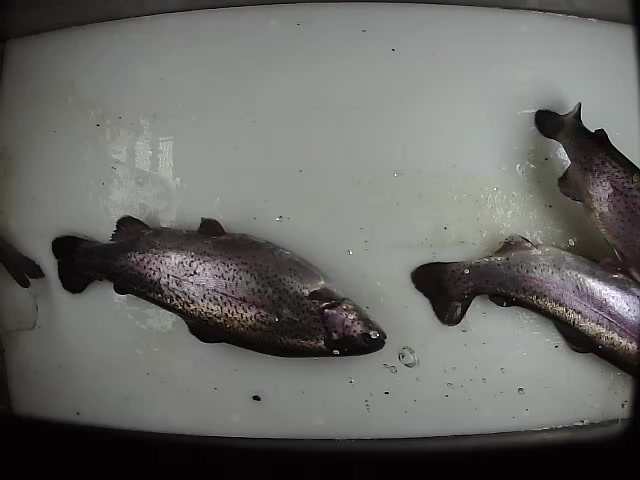fish: (48, 212, 389, 361), (409, 234, 640, 378), (532, 100, 640, 280)
